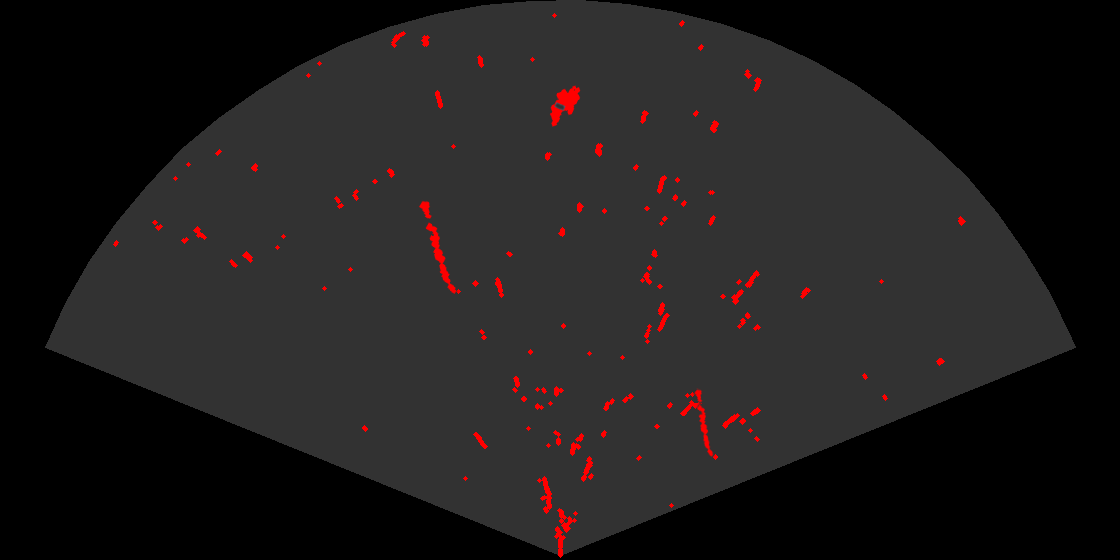AUV: (548, 84, 582, 128)
chain: (417, 198, 458, 295), (693, 388, 715, 459)
